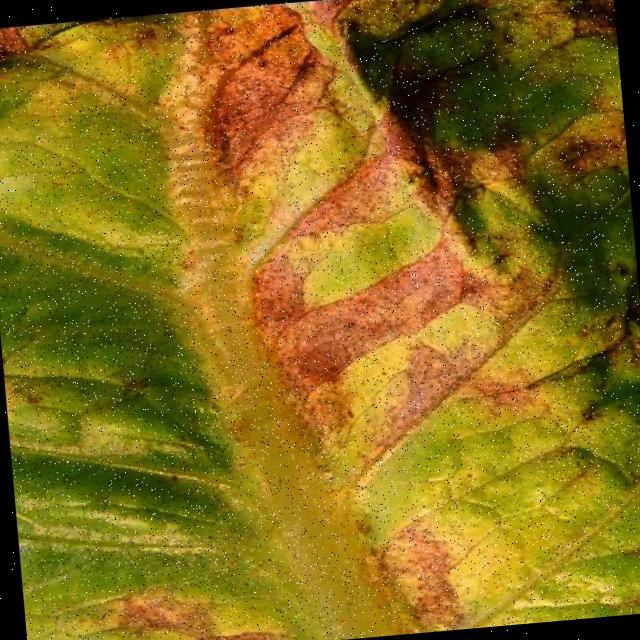Septoria_Blight: (200, 0, 640, 637)
